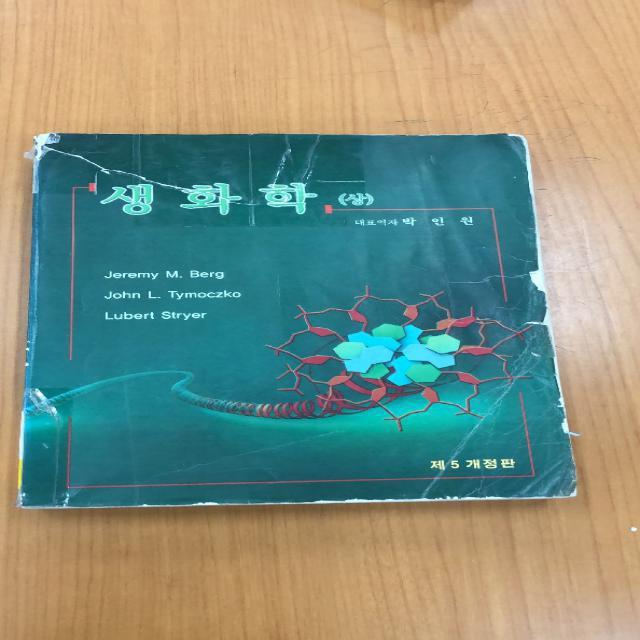Ripped: (19, 129, 67, 207), (524, 302, 552, 333), (13, 494, 63, 511), (527, 267, 551, 302), (560, 415, 585, 437), (548, 396, 573, 415)
Wornout: (306, 488, 418, 506), (504, 130, 535, 195), (136, 493, 232, 510), (431, 486, 506, 505), (528, 194, 545, 267), (547, 333, 563, 397), (564, 437, 579, 500), (21, 338, 35, 368), (243, 132, 260, 137)
